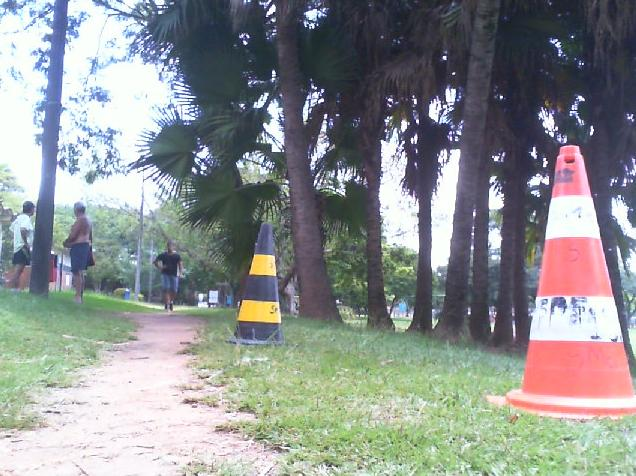0 cone: (487, 145, 636, 419), (223, 219, 285, 346)
